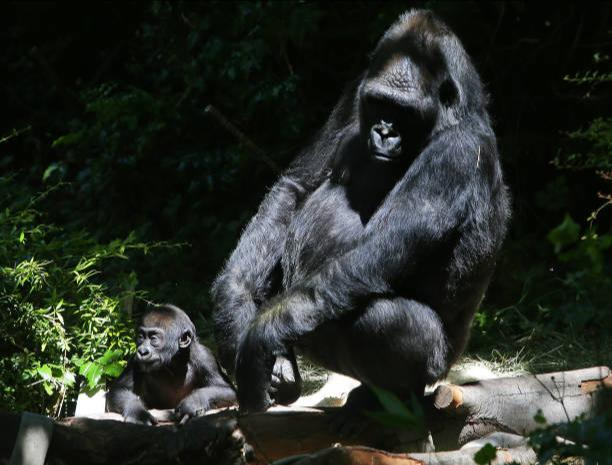gorille_Autres: (119, 2, 526, 418)
